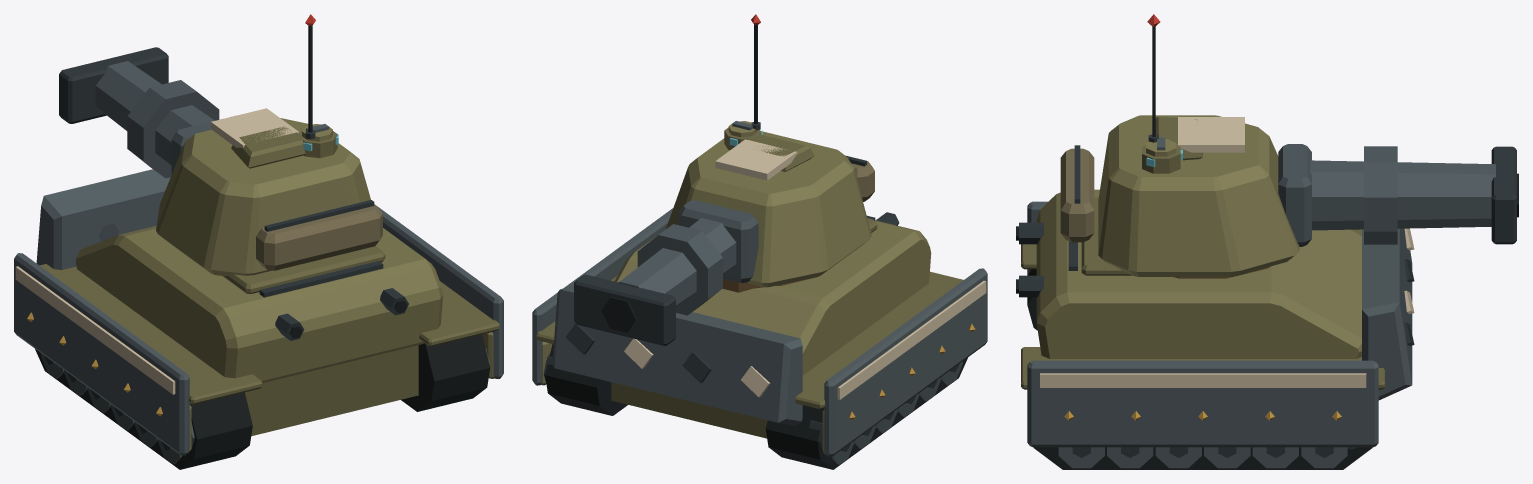
3 views of the same model, side by side, from view 1: azimuth 30°, elevation 25°; view 2: azimuth 150°, elevation 25°; view 3: azimuth 270°, elevation 25° (orthographic). The views are drawn at different scales.
Visible parts, largest first — view 1: boss_hull_2, boss_turret_2; view 2: boss_hull_2, boss_turret_2; view 3: boss_hull_2, boss_turret_2.
Boxes of the visible parts, box(x1,y1,x2,y2) form: boss_hull_2: box(14, 169, 503, 469); boss_turret_2: box(59, 14, 382, 276); boss_hull_2: box(532, 208, 987, 469); boss_turret_2: box(574, 14, 874, 345); boss_hull_2: box(1016, 189, 1414, 469); boss_turret_2: box(1060, 14, 1518, 278).
Bounding box in the file's own units: 0.96 × 1.04 × 1.2.
